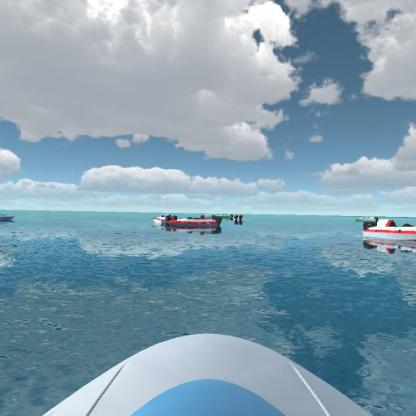usv0: (352, 212, 380, 224), (211, 209, 233, 221)
usv1: (0, 204, 16, 225), (233, 210, 246, 225)
usv3: (362, 216, 415, 246), (167, 210, 224, 230), (150, 209, 177, 228)
